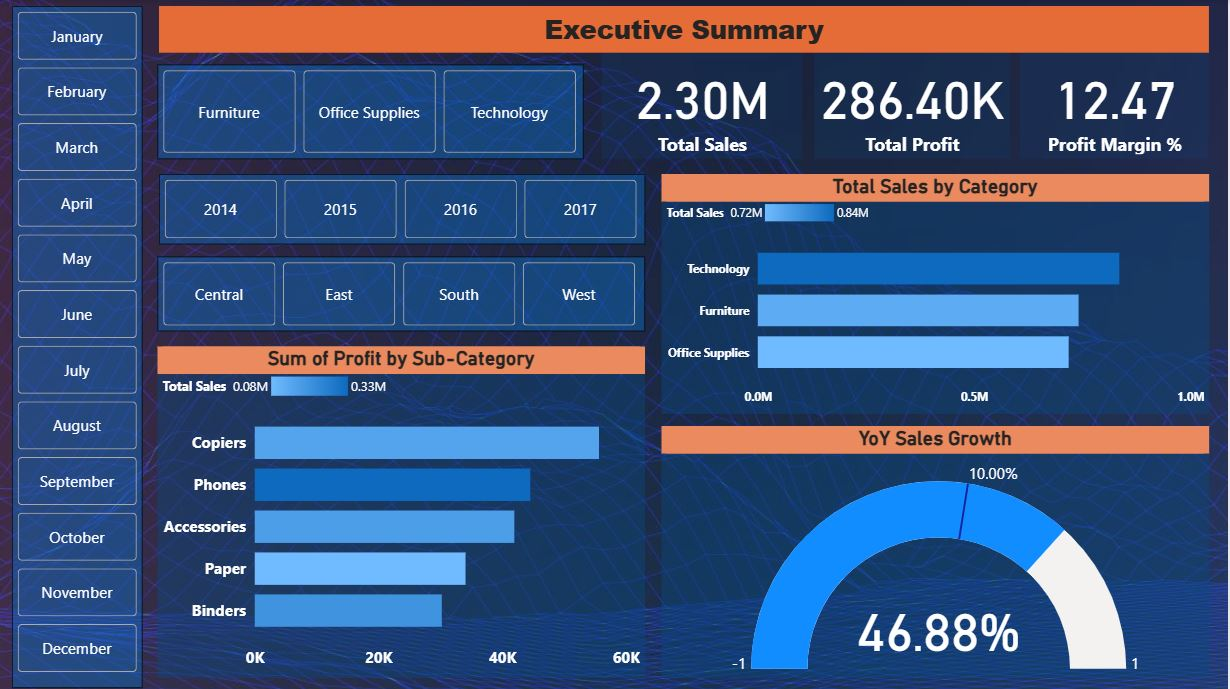

The dashboard page shown, as its layout file describes it:
{"tool":"powerbi","page":{"name":"Executive Summary","canvas":[1280,720],"ordinal":0},"visuals":[{"type":"clusteredBarChart","fields":{"Y":["superstore_cleaned.Total Sales"],"Category":["superstore_cleaned.Category"]},"box":[689.3,181.3,570.5,250.1],"z":0},{"type":"card","fields":{"Values":["sales_predictions.Total Profit"]},"box":[848.7,54.7,203.2,111],"z":1000},{"type":"card","fields":{"Values":["superstore_cleaned.Profit Margin %"]},"box":[1062.8,54.7,196.9,111],"z":2000},{"type":"gauge","title":"YoY Sales Growth","fields":{"Y":["superstore_cleaned.YoY Growth %"],"MinValue":["superstore_cleaned.Gauge Min"],"TargetValue":["superstore_cleaned.Target Growth"],"MaxValue":["superstore_cleaned.Gauge Max"]},"box":[689.3,443.9,570.5,262.6],"z":3000},{"type":"advancedSlicerVisual","fields":{"Values":["DateTable.Year"]},"box":[165.7,181.3,506.4,73.5],"z":4000},{"type":"advancedSlicerVisual","fields":{"Values":["DateTable.Month Full"]},"box":[13.2,5.7,136.1,710.6],"z":5000},{"type":"advancedSlicerVisual","fields":{"Values":["superstore_cleaned.Region"]},"box":[164.1,267.3,508,78.1],"z":6000},{"type":"advancedSlicerVisual","fields":{"Values":["superstore_cleaned.Category"]},"box":[164.1,67.2,443.9,98.5],"z":7000},{"type":"card","fields":{"Values":["superstore_cleaned.Total Sales"]},"box":[626.8,54.7,209.4,111],"z":8000},{"type":"clusteredBarChart","fields":{"Category":["superstore_cleaned.Sub-Category"],"Y":["Sum(superstore_cleaned.Profit)"]},"box":[164.1,361.1,508,345.4],"z":9000},{"type":"textbox","box":[165.7,6.3,1094.1,48.5],"z":9001}]}

Visuals, with their boxes in screenshot pixels (x1, y1, x2, y2), scaled from the page's 1280x720 canvas onto the 1230x689 screenshot:
clusteredBarChart - superstore_cleaned.Total Sales x superstore_cleaned.Category: left=662, top=173, right=1211, bottom=413
card - sales_predictions.Total Profit: left=816, top=52, right=1011, bottom=159
card - superstore_cleaned.Profit Margin %: left=1021, top=52, right=1210, bottom=159
"YoY Sales Growth" gauge: left=662, top=425, right=1211, bottom=676
advancedSlicerVisual - DateTable.Year: left=159, top=173, right=646, bottom=244
advancedSlicerVisual - DateTable.Month Full: left=13, top=5, right=143, bottom=685
advancedSlicerVisual - superstore_cleaned.Region: left=158, top=256, right=646, bottom=331
advancedSlicerVisual - superstore_cleaned.Category: left=158, top=64, right=584, bottom=159
card - superstore_cleaned.Total Sales: left=602, top=52, right=804, bottom=159
clusteredBarChart - superstore_cleaned.Sub-Category x Sum(superstore_cleaned.Profit): left=158, top=346, right=646, bottom=676
textbox: left=159, top=6, right=1211, bottom=52
